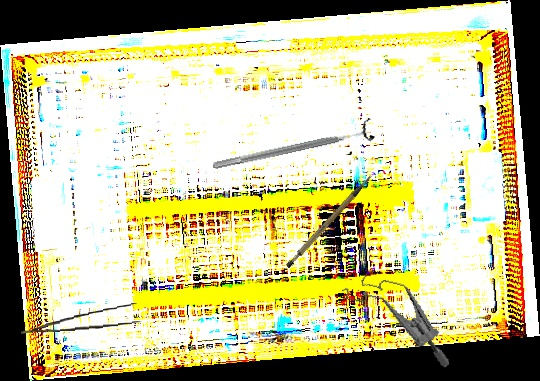Fixation Ring: (210, 116, 377, 179)
Scalpel Handle: (275, 173, 386, 271)
Speculum: (329, 267, 467, 369)
Tissue Forceps: (19, 302, 144, 335)
